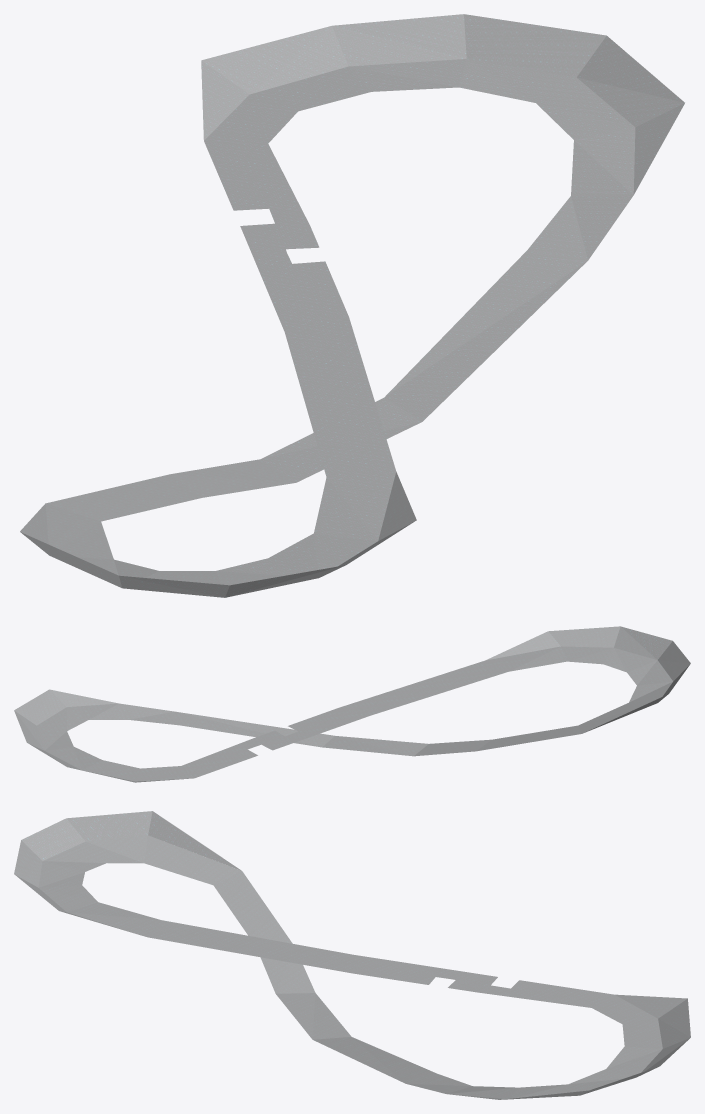
Rendered from MugenStage.glb.
The picture shows the model from 3 angles, top to bottom: view 1: azimuth 30°, elevation 25°; view 2: azimuth 150°, elevation 25°; view 3: azimuth 270°, elevation 25°; orthographic projection. The views are drawn at different scales.
Parts seen in each view (by area): view 1: stage_平面.012; view 2: stage_平面.012; view 3: stage_平面.012.
Boxes of the visible parts, x1,y1,x2,y2 form: stage_平面.012: (20, 14, 684, 597); stage_平面.012: (14, 626, 690, 782); stage_平面.012: (14, 811, 690, 1099).
Bounding box in the file's own units: 93.94 × 11.27 × 95.78.
1 material, 1 textured.
